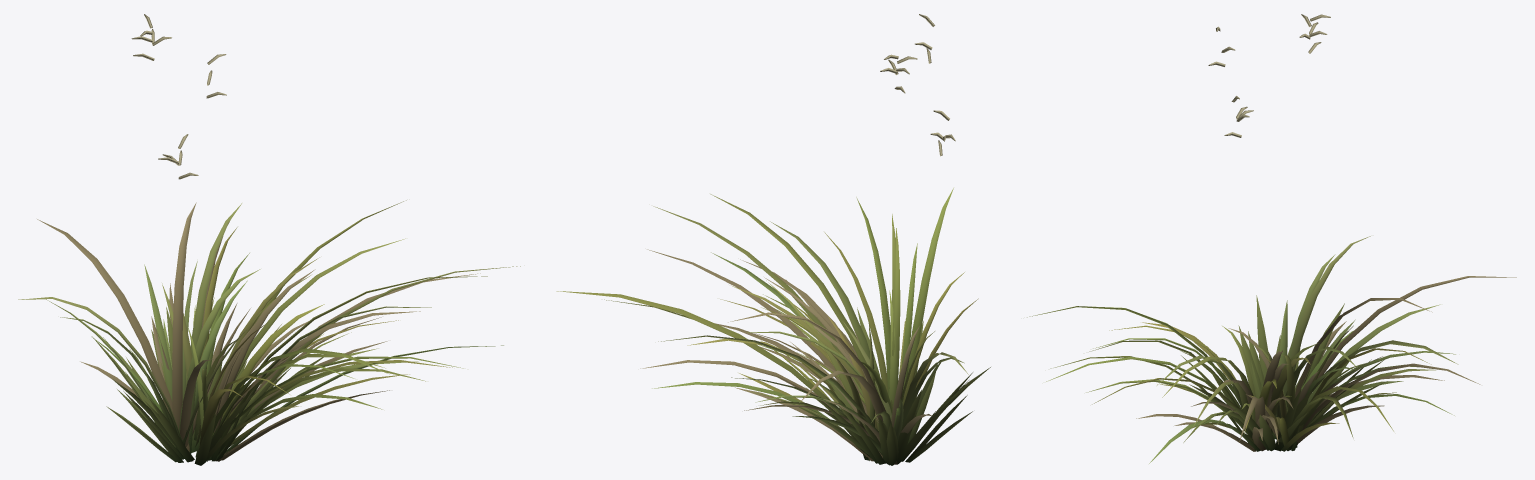
File: eco_grass_tall_lax_LOD1.glb
3 renders of one model, left to right at view 1: azimuth 30°, elevation 25°; view 2: azimuth 150°, elevation 25°; view 3: azimuth 270°, elevation 25°, orthographic. The views are drawn at different scales.
Parts seen in each view (by area): view 1: eco_grass_tall_lax_LOD1; view 2: eco_grass_tall_lax_LOD1; view 3: eco_grass_tall_lax_LOD1.
Part boxes in pixels (x1,y1,x2,y2): eco_grass_tall_lax_LOD1: [18, 14, 520, 465]; eco_grass_tall_lax_LOD1: [556, 14, 990, 465]; eco_grass_tall_lax_LOD1: [1027, 14, 1516, 463].
Bounding box in the file's own units: 1.04 × 1.03 × 1.11.
